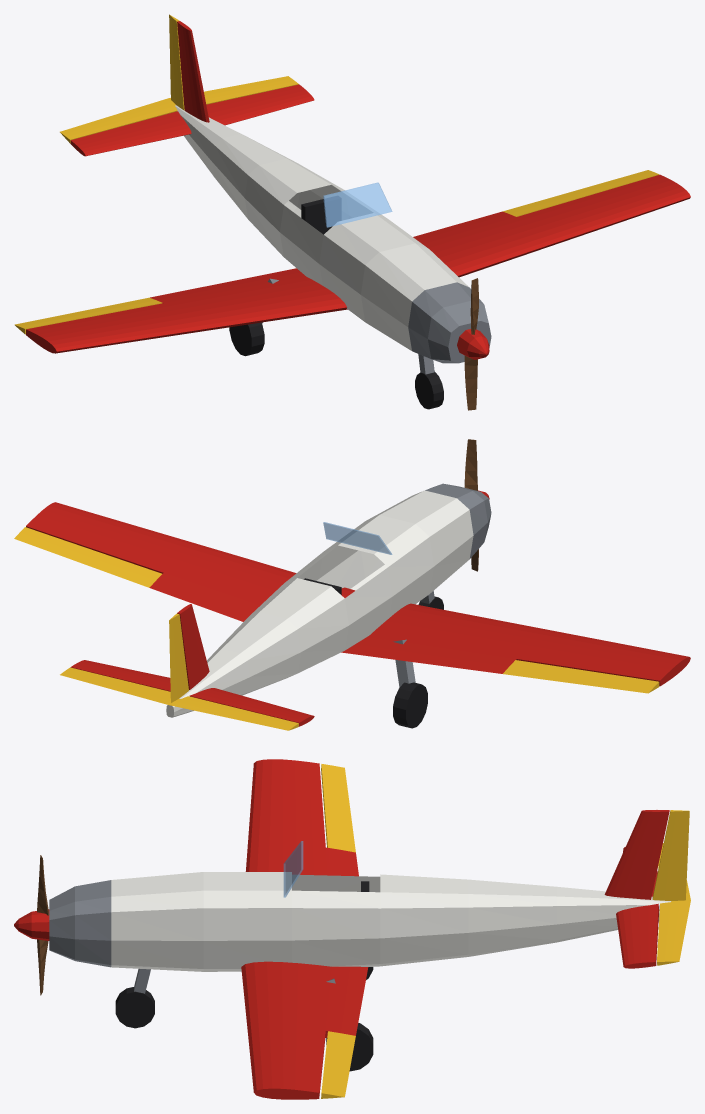
3 views of the same model, one above another, from view 1: azimuth 30°, elevation 25°; view 2: azimuth 150°, elevation 25°; view 3: azimuth 270°, elevation 25° (orthographic). The views are drawn at different scales.
Visible parts, largest first — view 1: fuselage, wing_right, wing_left, stabilizer, engine, elevator, windscreen, fin, aileron_left, aileron_right, seat_back, propeller (+4 smaller); view 2: fuselage, wing_right, wing_left, elevator, stabilizer, aileron_left, aileron_right, engine, fin, wheel_right, rudder, windscreen (+2 smaller); view 3: fuselage, wing_left, wing_right, engine, fin, rudder, stabilizer, aileron_right, elevator, aileron_left, wheel_nose, propeller (+3 smaller).
Part boxes in pixels (x1,y1,x2,y2): fuselage: (175,105,468,350); wing_right: (26,268,347,353); wing_left: (413,174,690,277); stabilizer: (70,84,314,156); engine: (408,282,491,363); elevator: (60,76,298,143); windscreen: (323,182,392,227); fin: (177,21,209,122); aileron_left: (502,170,659,216); aileron_right: (14,297,162,334); seat_back: (301,196,341,234); propeller: (464,278,478,410); fuselage: (166,490,473,717); wing_right: (341,603,690,686); wing_left: (26,502,355,621); elevator: (60,667,298,730); stabilizer: (70,660,314,726); aileron_left: (14,527,161,587); aileron_right: (503,660,659,693); engine: (425,483,491,558); fin: (177,604,209,689); wheel_right: (393,682,427,728); rudder: (169,613,188,702); windscreen: (323,522,392,554); fuselage: (111,872,671,971); wing_left: (241,961,368,1099); wing_right: (245,759,358,876); engine: (49,880,111,967); fin: (604,810,669,899); rudder: (652,810,689,901); stabilizer: (616,847,659,968); aileron_right: (321,764,355,852); elevator: (657,843,690,965); aileron_left: (321,1031,355,1098); wheel_nose: (115,987,154,1028); propeller: (37,855,49,995).
Size of the model in its own units: 9.7 by 2.95 by 8.42.
